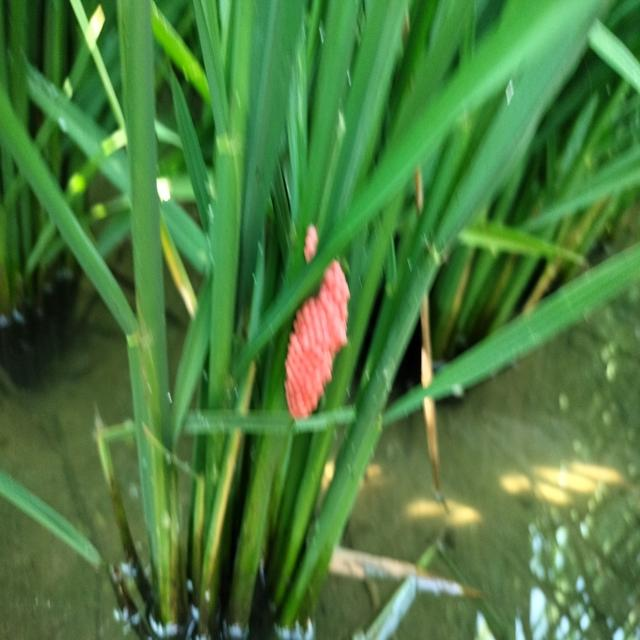Leaf blast: (282, 214, 357, 427)
